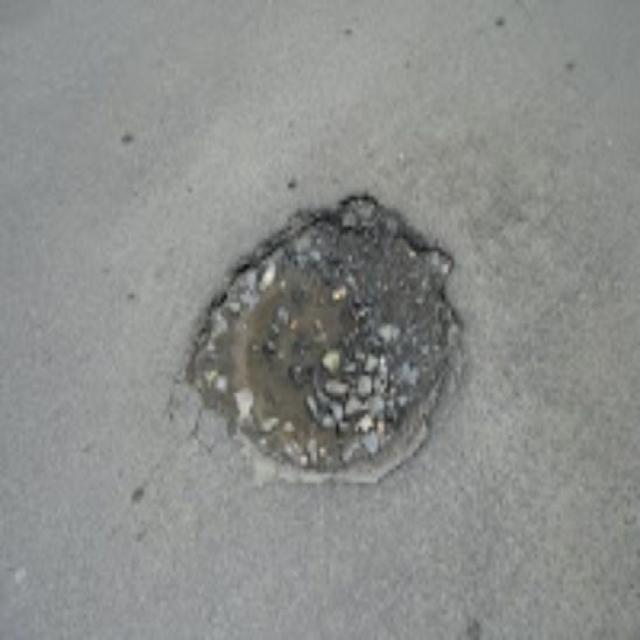pothole: (180, 186, 468, 489)
